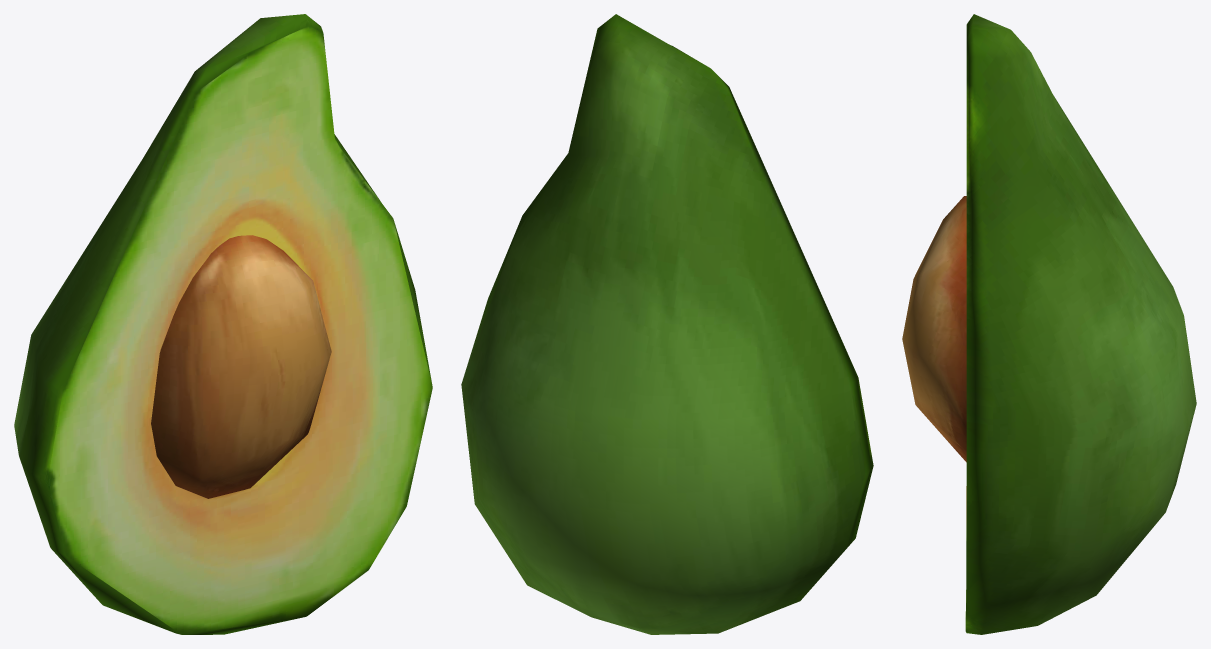
3 views of the same model, side by side, from view 1: azimuth 30°, elevation 25°; view 2: azimuth 150°, elevation 25°; view 3: azimuth 270°, elevation 25° (orthographic). The views are drawn at different scales.
Parts seen in each view (by area): view 1: Avocado; view 2: Avocado; view 3: Avocado.
Boxes of the visible parts, x1,y1,x2,y2 form: Avocado: [14, 14, 432, 634]; Avocado: [461, 14, 873, 634]; Avocado: [902, 14, 1196, 634].
Bounding box in the file's own units: 0.0425 × 0.0626 × 0.0276.
1 material, 1 textured.
